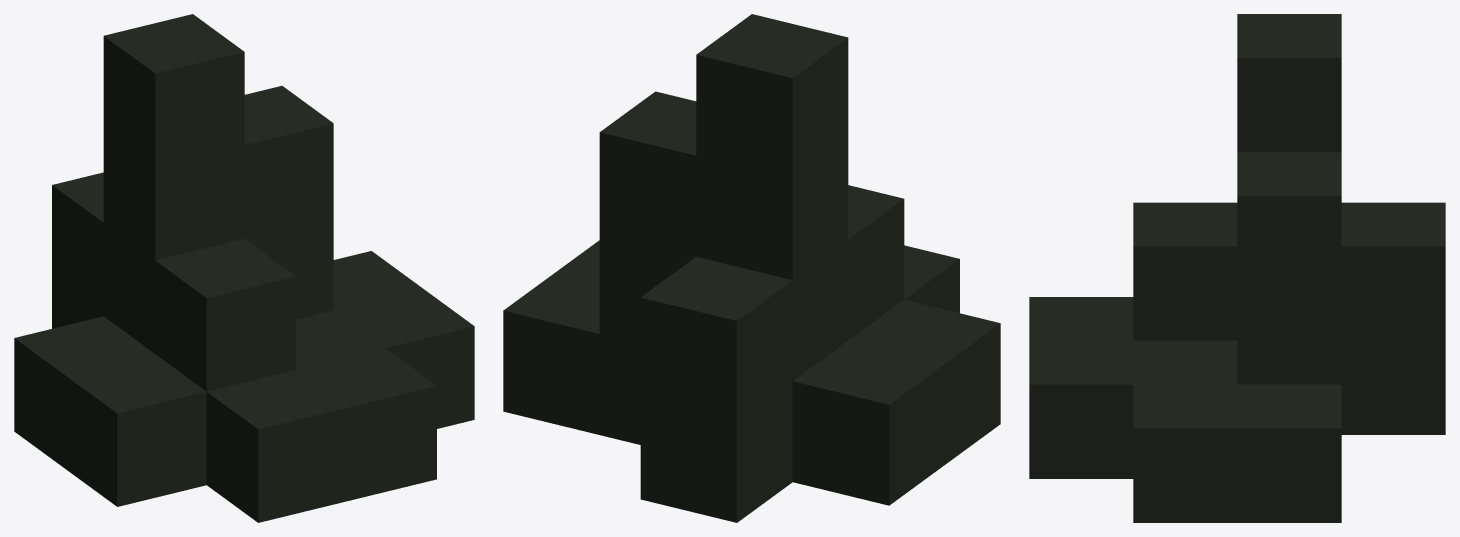
The model's file is Grama.obj.
The picture shows the model from 3 angles, left to right: view 1: azimuth 30°, elevation 25°; view 2: azimuth 150°, elevation 25°; view 3: azimuth 270°, elevation 25°; orthographic projection. The views are drawn at different scales.
Size of the model in its own units: 0.4 by 0.4 by 0.4.
1 material, 1 textured.
